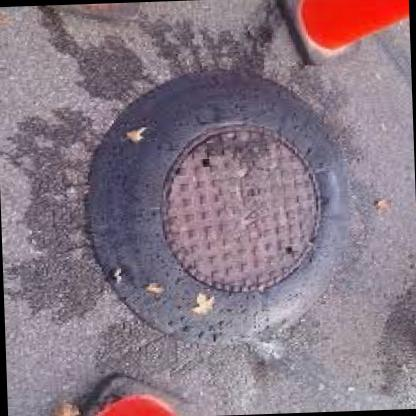manholes: (98, 76, 354, 336)
